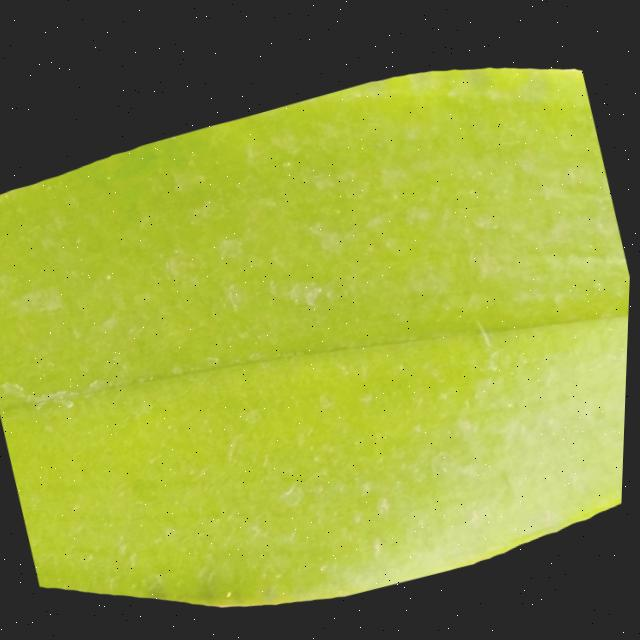mite: (278, 479, 311, 510), (472, 315, 499, 352), (216, 579, 248, 609), (223, 584, 243, 603), (226, 587, 239, 600)
spots: (0, 26, 632, 640)
